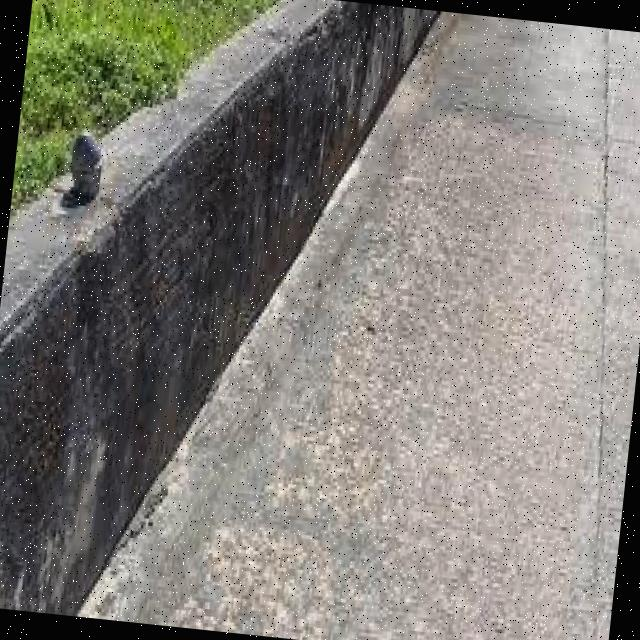curb: (1, 141, 183, 623), (141, 37, 283, 443), (255, 1, 394, 279)
